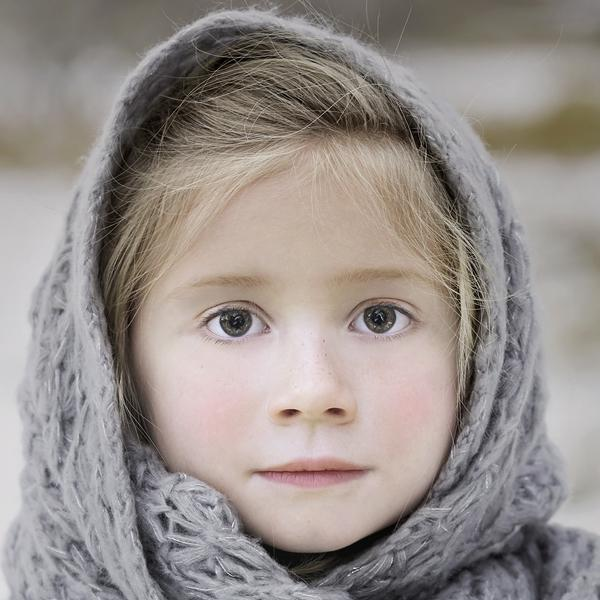Eyes: (192, 292, 281, 352), (338, 291, 426, 349)
